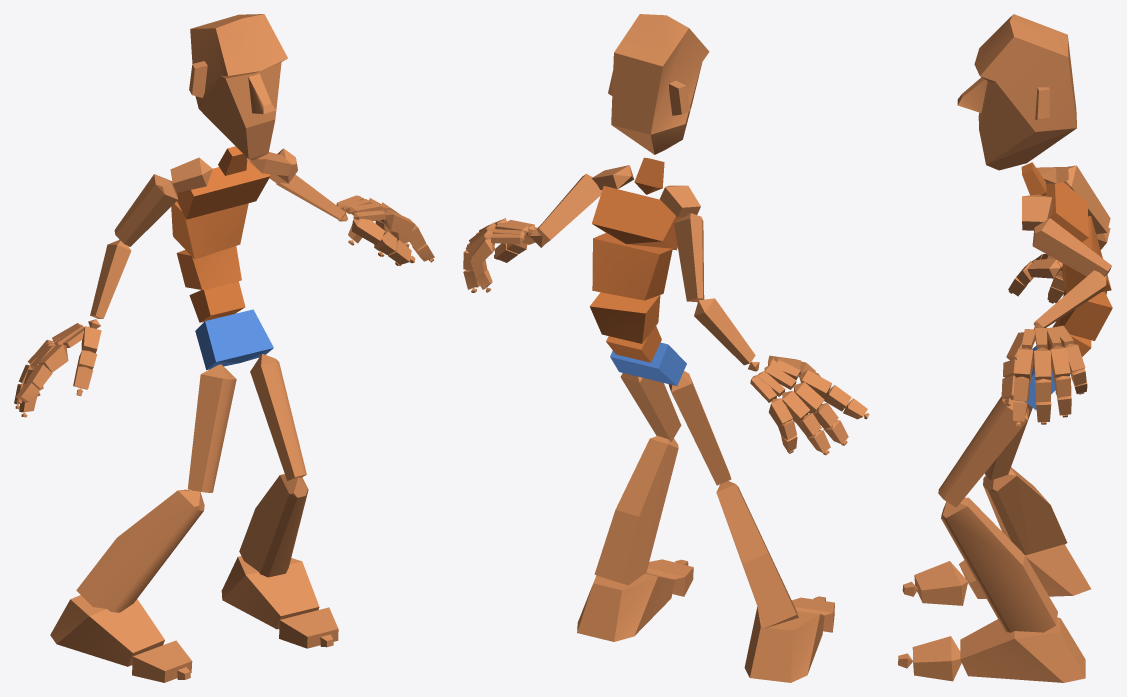
Rendered from prueba107.obj.
The picture shows the model from 3 angles, left to right: view 1: azimuth 30°, elevation 25°; view 2: azimuth 150°, elevation 25°; view 3: azimuth 270°, elevation 25°; orthographic projection. The views are drawn at different scales.
Parts seen in each view (by area): view 1: BOPED_Head, BOPED_R_leg, BOPED_R_foot, BOPED_L_leg, BOPED_R_foot01, BOPED_R_legup, BOPED_L_legup, Bone01, Bone04, Bone05, BOPED_R_arm_upper, Bone03 (+7 smaller); view 2: BOPED_Head, BOPED_L_leg, BOPED_R_foot01, BOPED_R_leg, BOPED_R_foot, Bone04, Bone05, Bone03, BOPED_R_legup, BOPED_L_legup, BOPED_R_arm_upper, Bone01 (+8 smaller); view 3: BOPED_Head, BOPED_L_leg, BOPED_R_foot01, BOPED_R_leg, BOPED_L_legup, BOPED_R_foot, BOPED_L_arm_upper, BOPED_R_foot_toe01, BOPED_R_foot_toe04, Bone05, Bone03, BOPED_L_arm_fore (+16 smaller).
Boxes of the visible parts, x1,y1,x2,y2 form: BOPED_Head: (189,14,287,160); BOPED_R_leg: (76,489,204,612); BOPED_R_foot: (50,595,164,666); BOPED_L_leg: (239,474,308,577); BOPED_R_foot01: (221,556,319,629); BOPED_R_legup: (187,364,236,492); BOPED_L_legup: (250,354,306,480); Bone01: (195,309,273,369); Bone04: (171,201,248,259); Bone05: (177,159,270,219); BOPED_R_arm_upper: (114,174,178,246); Bone03: (176,246,241,289); BOPED_Head: (608,14,709,154); BOPED_L_leg: (594,436,678,585); BOPED_R_foot01: (577,573,674,641); BOPED_R_leg: (716,481,798,628); BOPED_R_foot: (744,606,824,682); Bone04: (592,233,672,300); Bone05: (592,186,683,250); Bone03: (589,292,660,343); BOPED_R_legup: (668,371,731,485); BOPED_L_legup: (620,373,681,441); BOPED_R_arm_upper: (674,213,704,302); Bone01: (610,342,686,385); BOPED_Head: (957,14,1076,170); BOPED_L_leg: (941,497,1057,632); BOPED_R_foot01: (960,617,1085,682); BOPED_R_leg: (983,467,1067,555); BOPED_L_legup: (938,396,1029,507); BOPED_R_foot: (959,544,1091,598); BOPED_L_arm_upper: (1032,218,1111,276); BOPED_R_foot_toe01: (914,561,967,605); BOPED_R_foot_toe04: (912,636,961,681); Bone05: (1045,182,1088,241); Bone03: (1060,289,1112,340); BOPED_L_arm_fore: (1033,270,1106,327).
Size of the model in its own units: 130 by 183 by 56.5.
